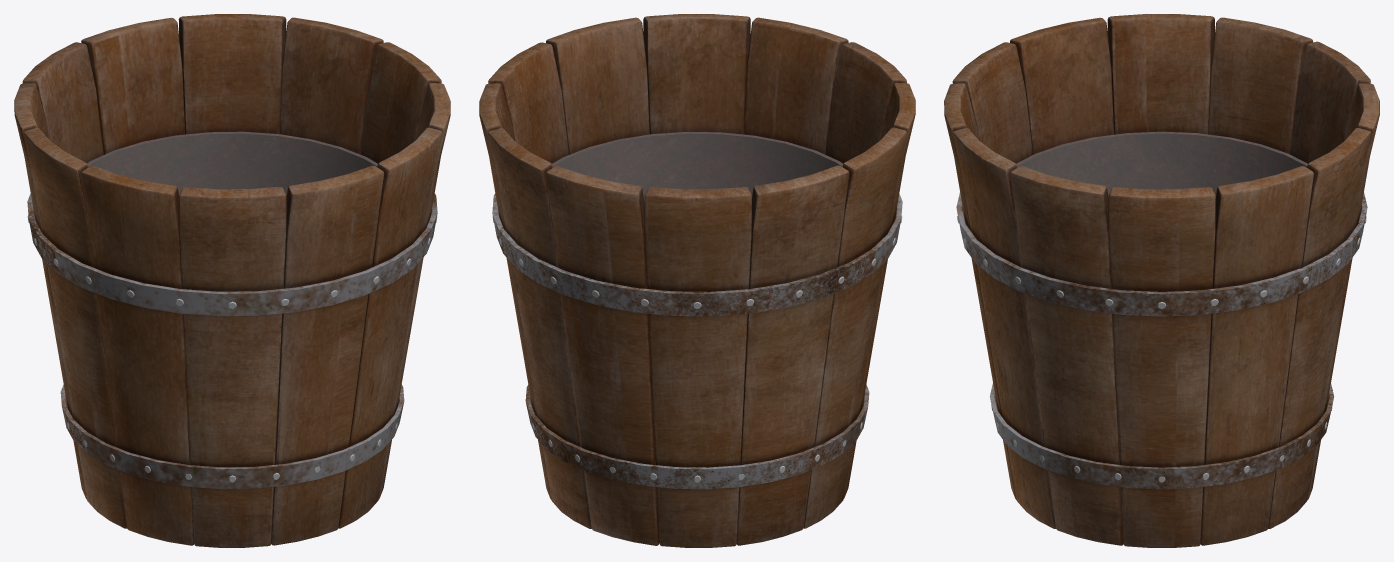
File: bath_wooden_bucket.glb
The picture shows the model from 3 angles, left to right: view 1: azimuth 30°, elevation 25°; view 2: azimuth 150°, elevation 25°; view 3: azimuth 270°, elevation 25°; orthographic projection.
Parts seen in each view (by area): view 1: bucket_0, metal_1; view 2: bucket_0, metal_1; view 3: bucket_0, metal_1.
Part boxes in pixels (x1,y1,x2,y2): bucket_0: (14,14,450,547); metal_1: (27,131,437,489); bucket_0: (479,14,915,547); metal_1: (492,132,902,489); bucket_0: (944,14,1379,547); metal_1: (956,131,1367,489).
Size of the model in its own units: 1.53 by 1.48 by 1.53.
Materials: 1 (1 with a texture image).
